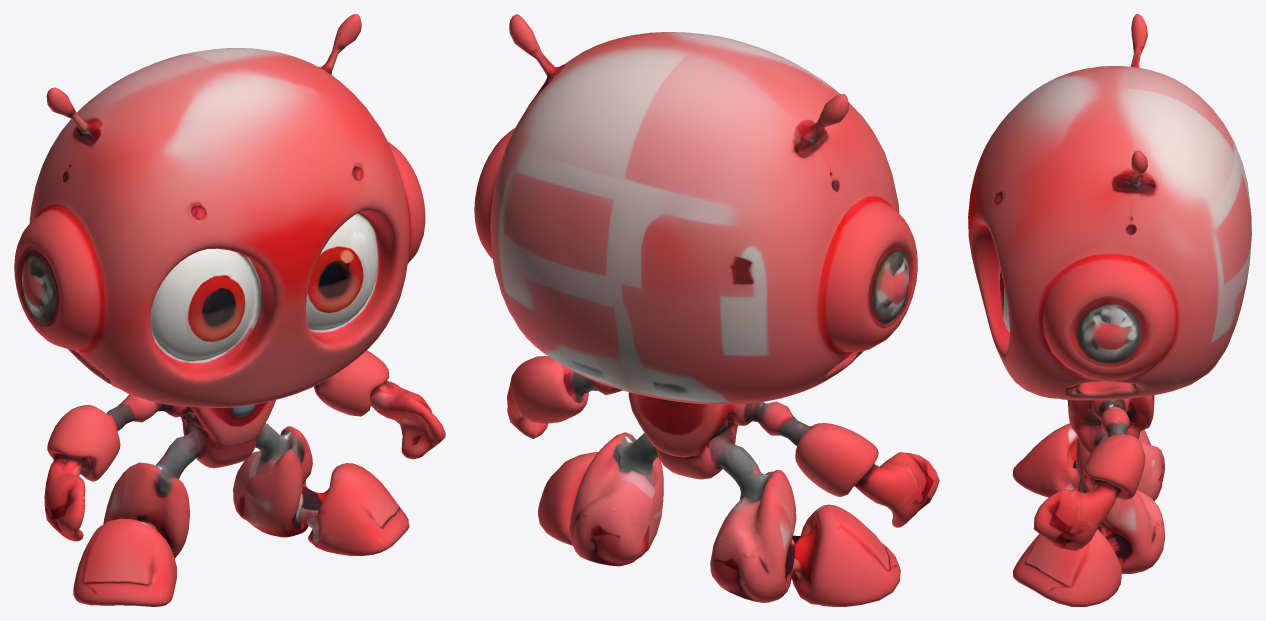
File: round_robot.glb
The picture shows the model from 3 angles, left to right: view 1: azimuth 30°, elevation 25°; view 2: azimuth 150°, elevation 25°; view 3: azimuth 270°, elevation 25°; orthographic projection. The views are drawn at different scales.
Visible parts, largest first — view 1: Object_2; view 2: Object_2; view 3: Object_2.
Boxes of the visible parts, box(x1,y1,x2,y2) form: Object_2: box(14, 14, 445, 606); Object_2: box(474, 14, 939, 606); Object_2: box(968, 14, 1251, 606).
Bounding box in the file's own units: 1.53 × 1.89 × 1.06.
1 material, 1 textured.
